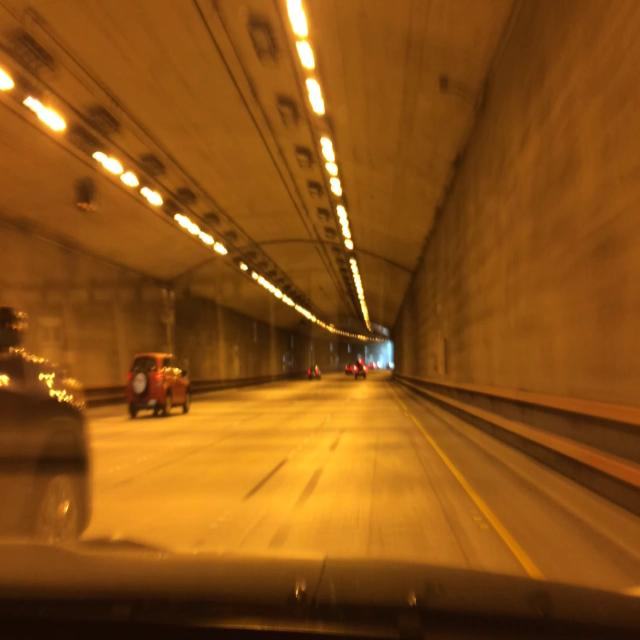Vehicle: (122, 333, 201, 436), (349, 354, 374, 386), (304, 356, 320, 380)
